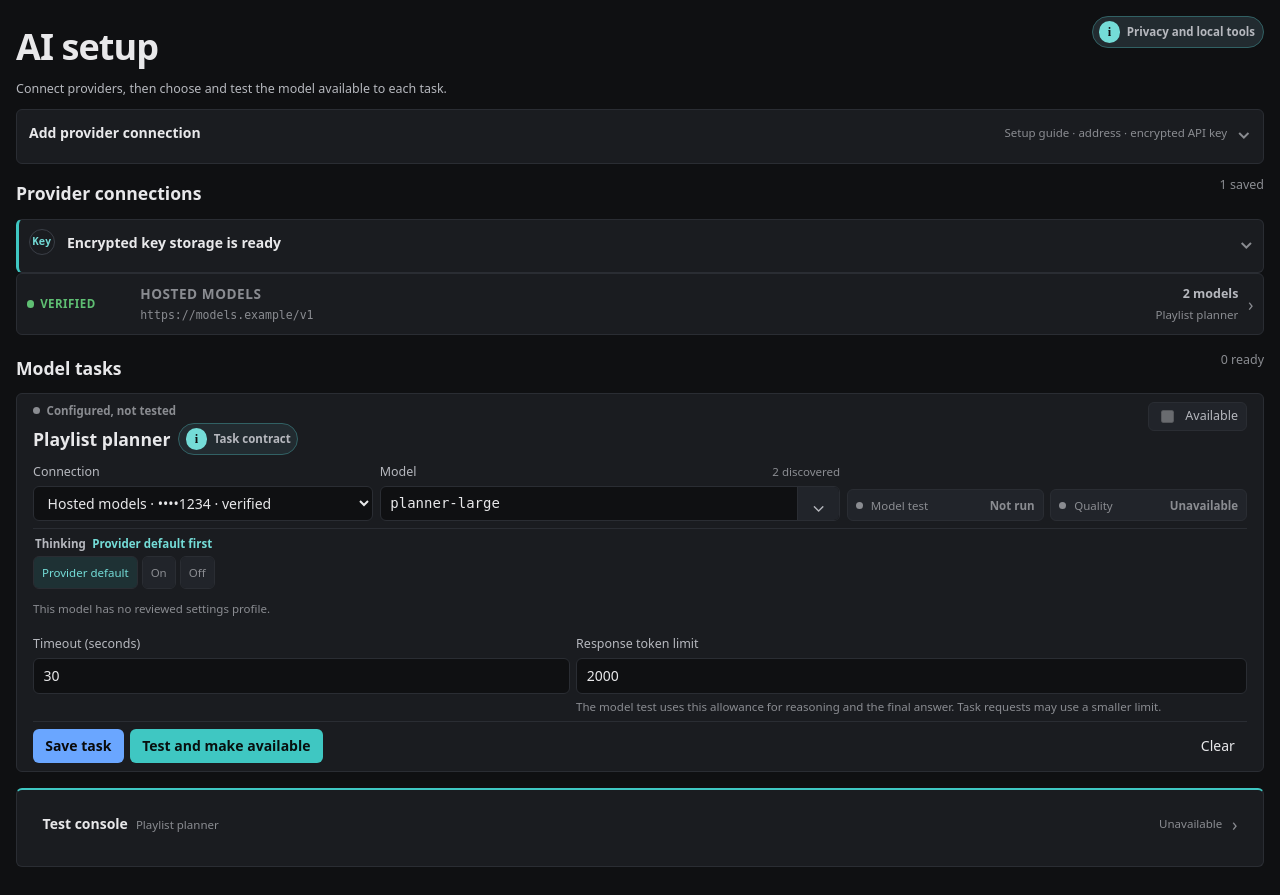
Test: AssistantAiSetupView › allows model conformance after discovery without claiming verified capabilities
Click the heading "Hosted models".
click(68, 304)  # box [17,274,1263,334]
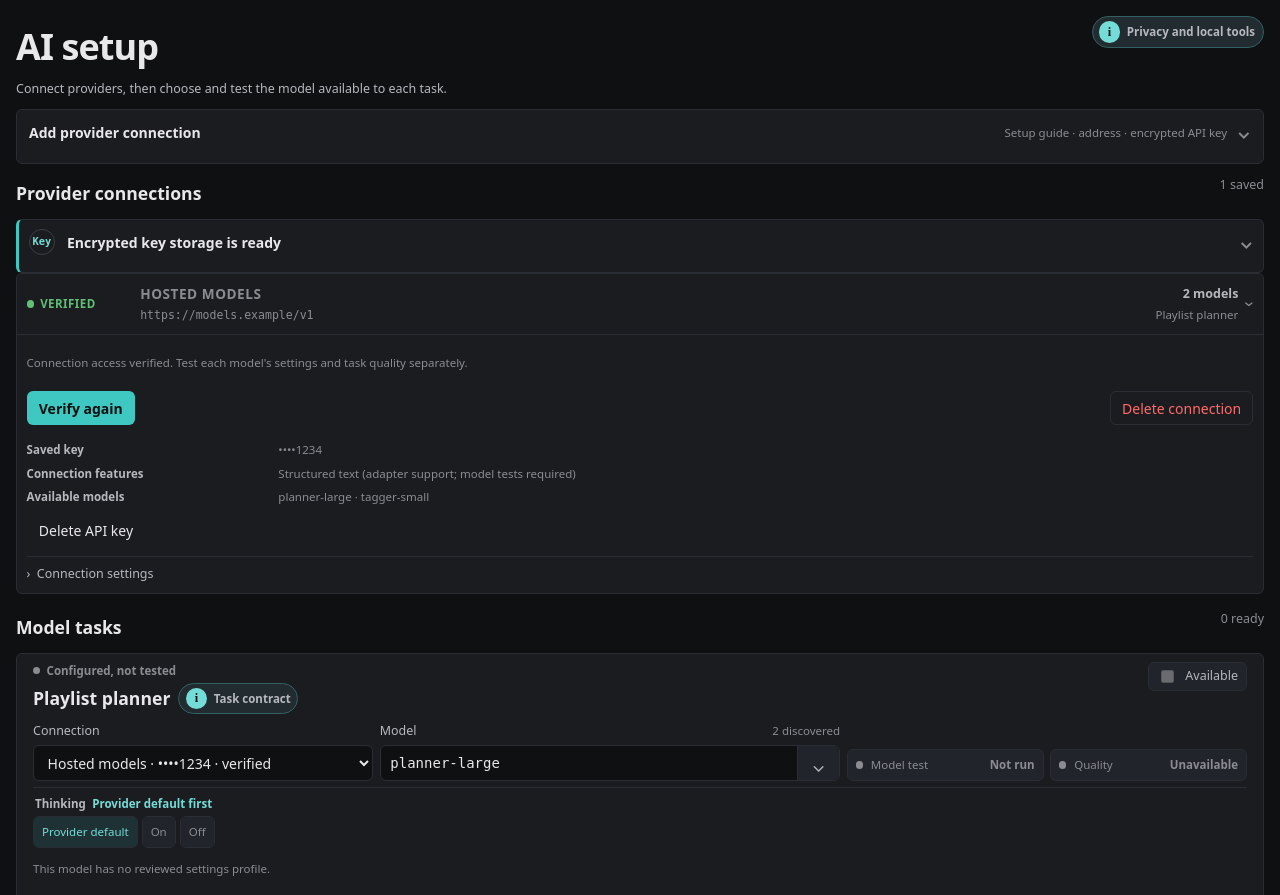
Expected: the text "Structured text (adapter support; model tests required)" is shown, [278,466,576,481]
Expected: the text "Connection access verified" is shown, [27,355,468,370]
